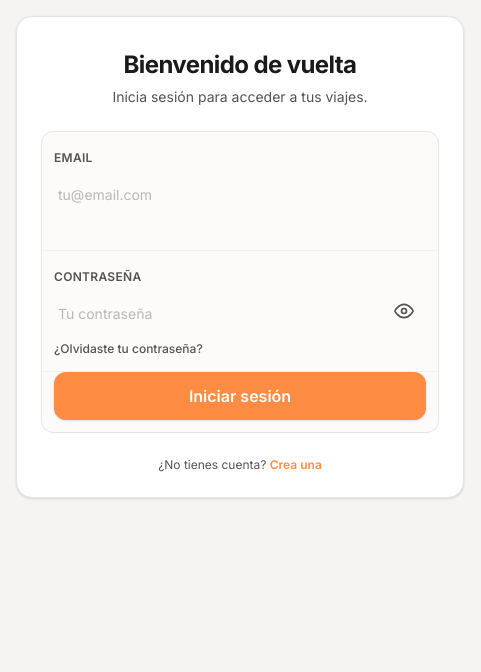
Test case: /login › INVALID_CREDENTIALS surfaces a banner (anti-enumeration)
The image size is (481, 672).
In the field with placeholder "tu@email.com": (240, 194) [54,172,426,216], type "jane@example.test"
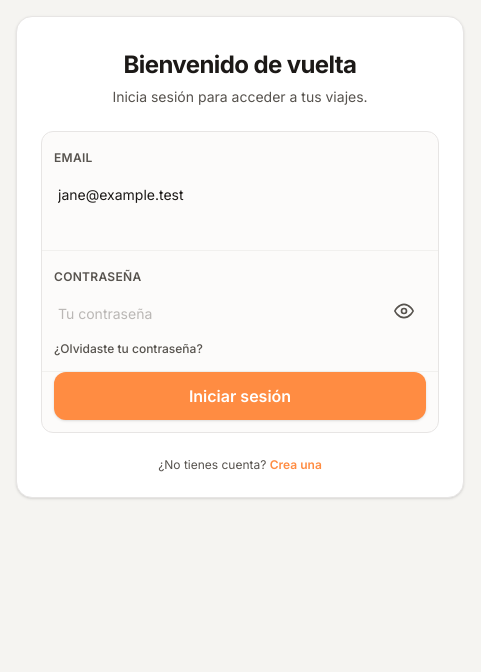
In the field with placeholder "Tu contraseña": (218, 313) [54,291,382,335], type "WrongPass1!"
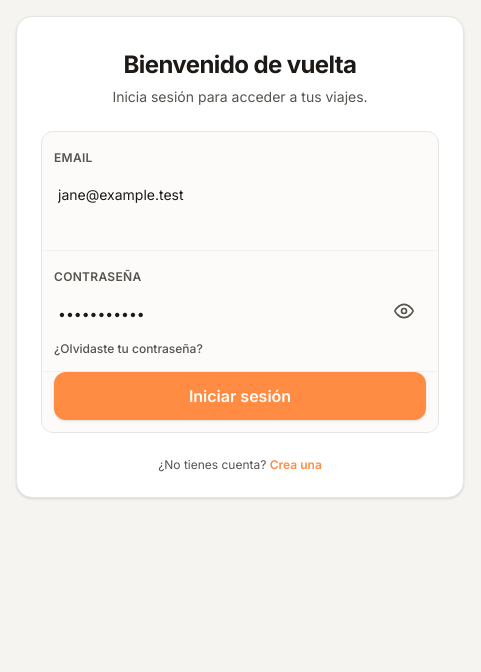
Click the button "Iniciar sesión": (240, 396) [54,372,426,420]
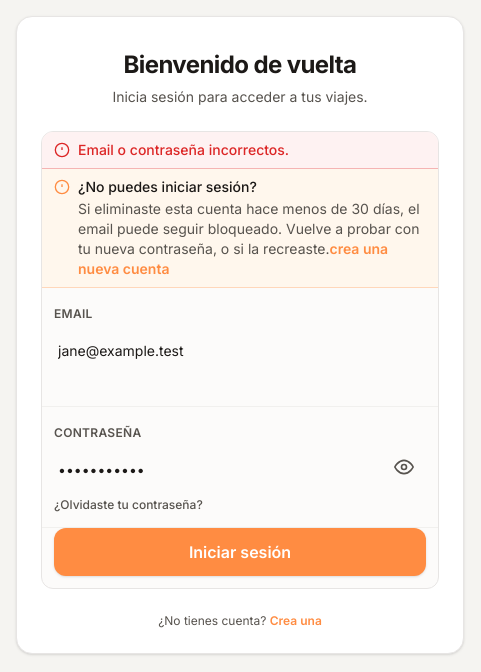
Expected: the message "Email o contraseña incorrectos." is shown, [42,132,438,169]
